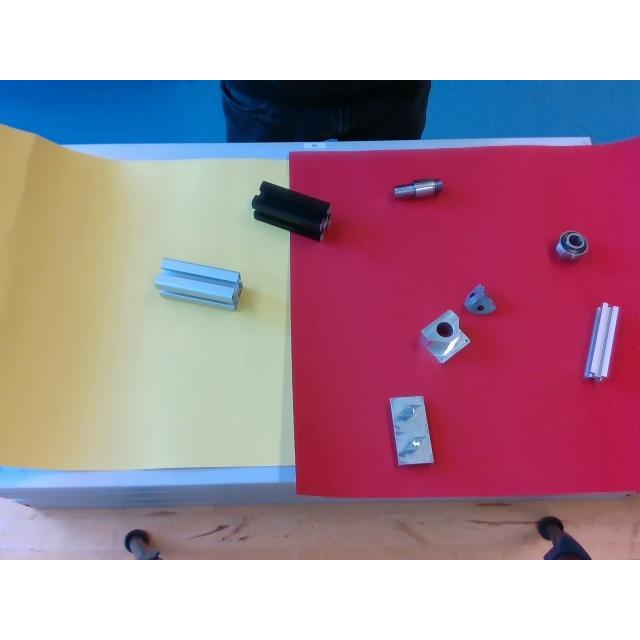Axis2: (394, 178, 444, 198)
Bearing2: (556, 230, 588, 256)
F20_20_G: (586, 302, 618, 378)
S40_40_B: (252, 180, 330, 240)
S40_40_G: (155, 258, 241, 310)
